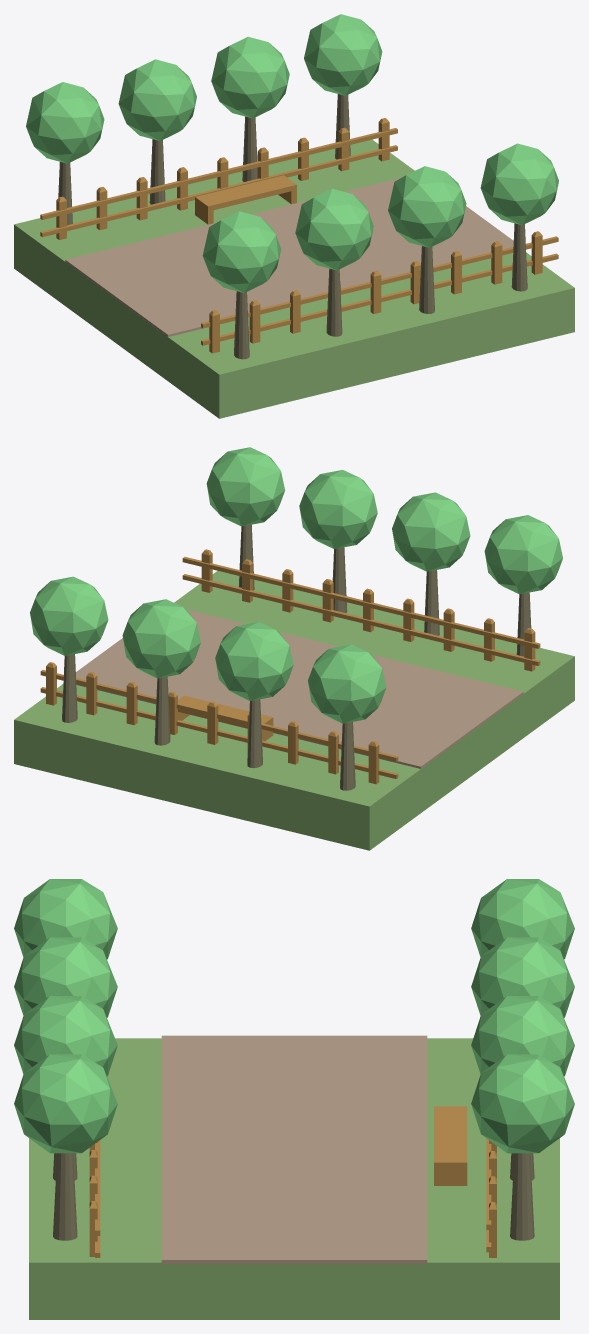
File: building_garden.fbx
The picture shows the model from 3 angles, top to bottom: view 1: azimuth 30°, elevation 25°; view 2: azimuth 150°, elevation 25°; view 3: azimuth 270°, elevation 25°; orthographic projection. The views are drawn at different scales.
Visible parts, largest first — view 1: Cube.003; view 2: Cube.003; view 3: Cube.003.
Boxes of the visible parts, x1=… form: Cube.003: x1=14, y1=14, x2=574, y2=418; Cube.003: x1=14, y1=447, x2=574, y2=850; Cube.003: x1=14, y1=879, x2=574, y2=1319.
Size of the model in its own units: 1642 by 789 by 1690.
